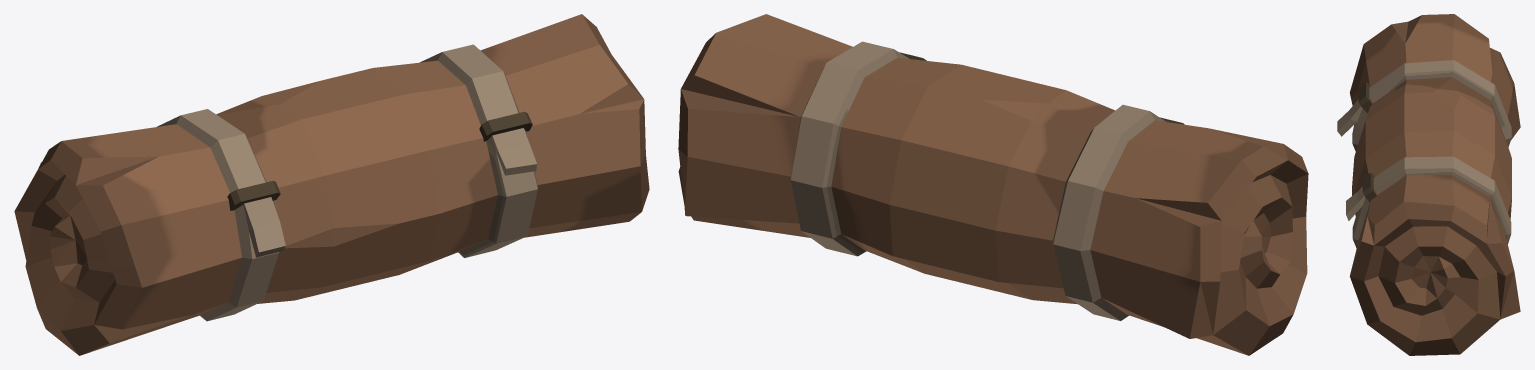
File: bog_bedroll.gltf
3 views of the same model, side by side, from view 1: azimuth 30°, elevation 25°; view 2: azimuth 150°, elevation 25°; view 3: azimuth 270°, elevation 25° (orthographic). The views are drawn at different scales.
Parts seen in each view (by area): view 1: bog_bedroll; view 2: bog_bedroll; view 3: bog_bedroll.
Boxes of the visible parts, left/top/right/bottom form: bog_bedroll: left=14, top=14, right=649, bottom=355; bog_bedroll: left=678, top=14, right=1308, bottom=355; bog_bedroll: left=1337, top=14, right=1520, bottom=355.
Bounding box in the file's own units: 1.1 × 0.3452 × 0.3995.
Materials: 1 (1 with a texture image).
